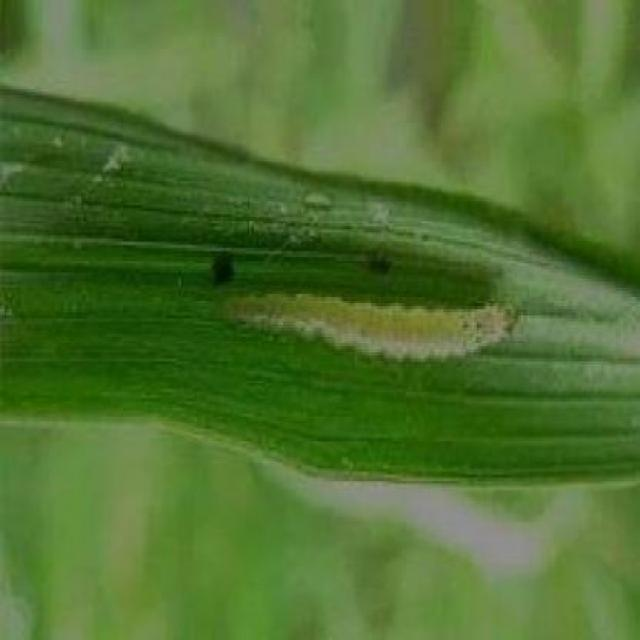leaf-folder: (203, 217, 539, 418)
